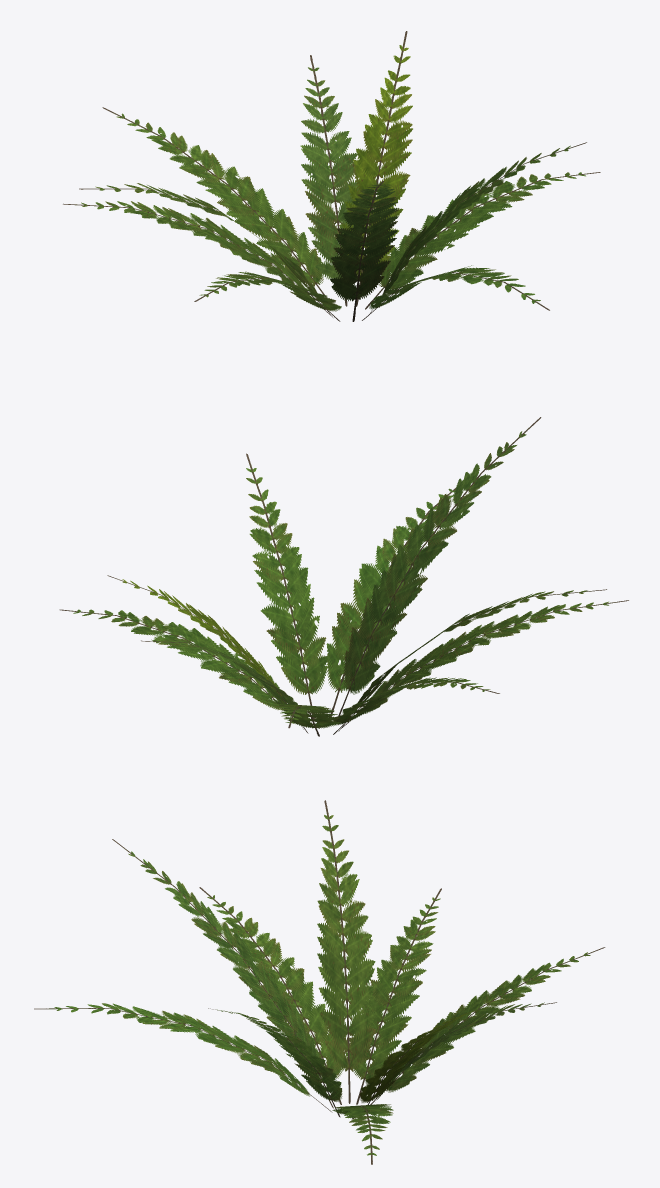
File: kapradi_1.glb
The picture shows the model from 3 angles, top to bottom: view 1: azimuth 30°, elevation 25°; view 2: azimuth 150°, elevation 25°; view 3: azimuth 270°, elevation 25°; orthographic projection. The views are drawn at different scales.
Visible parts, largest first — view 1: kapradi_1; view 2: kapradi_1; view 3: kapradi_1.
Boxes of the visible parts, x1,y1,x2,y2 form: kapradi_1: [63, 31, 600, 321]; kapradi_1: [59, 417, 628, 736]; kapradi_1: [34, 800, 605, 1164].
Size of the model in its own units: 1.45 by 0.6256 by 1.52.
1 material, 1 textured.
